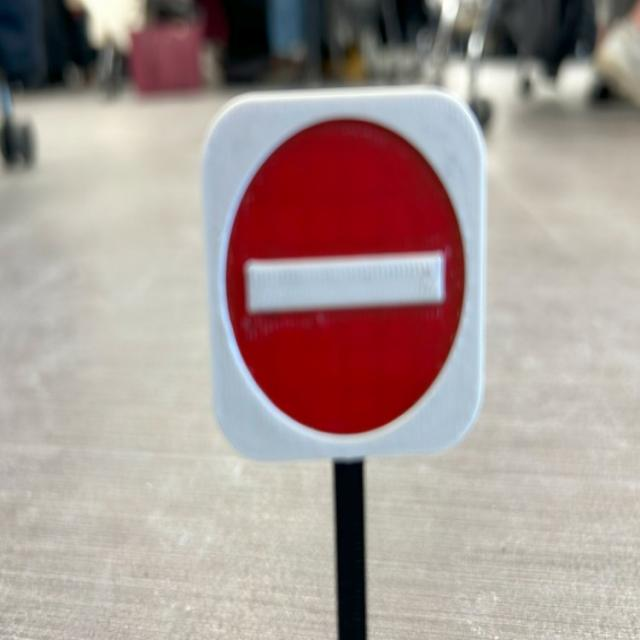sign_noentry: (194, 91, 489, 454)
